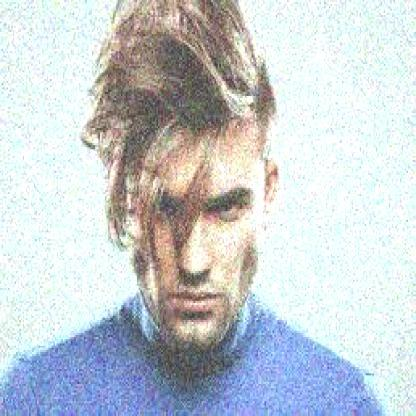without_mask: (150, 179, 258, 333)
